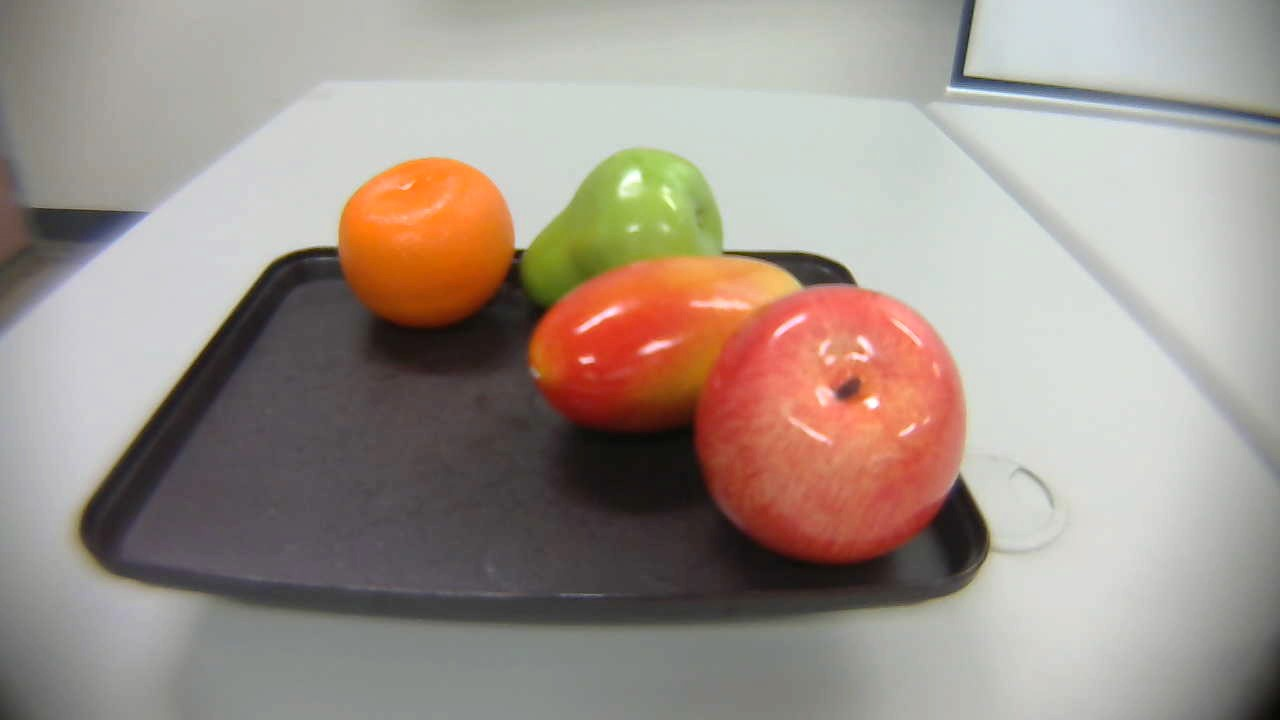green pear: (513, 144, 733, 313)
orange: (343, 156, 513, 336)
red apple: (692, 284, 972, 571)
red mango: (523, 249, 828, 436)
